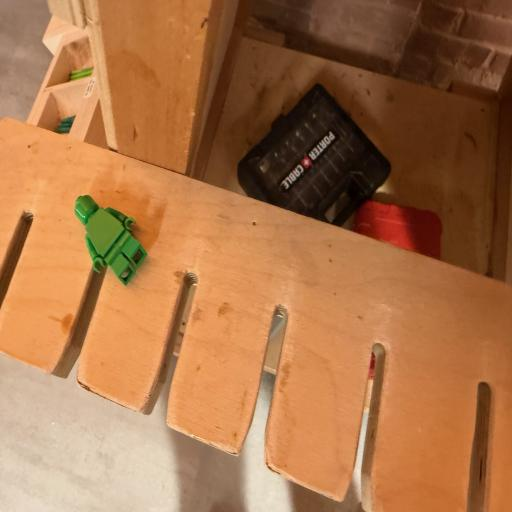Lego-Dude: (74, 195, 147, 285)
